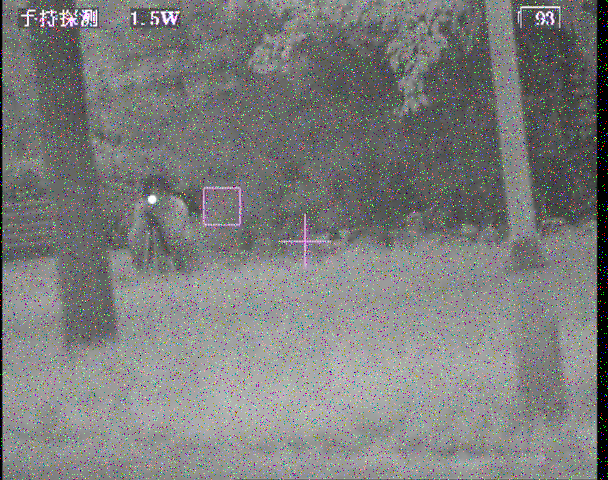my: (146, 194, 158, 207)
